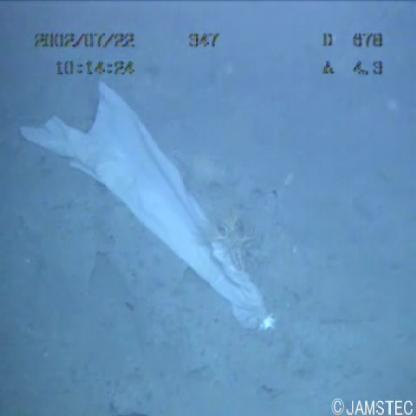Bio: (213, 205, 271, 283)
Rác: (11, 68, 286, 343)
